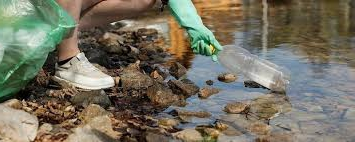plastic water bottle: (207, 40, 294, 98)
